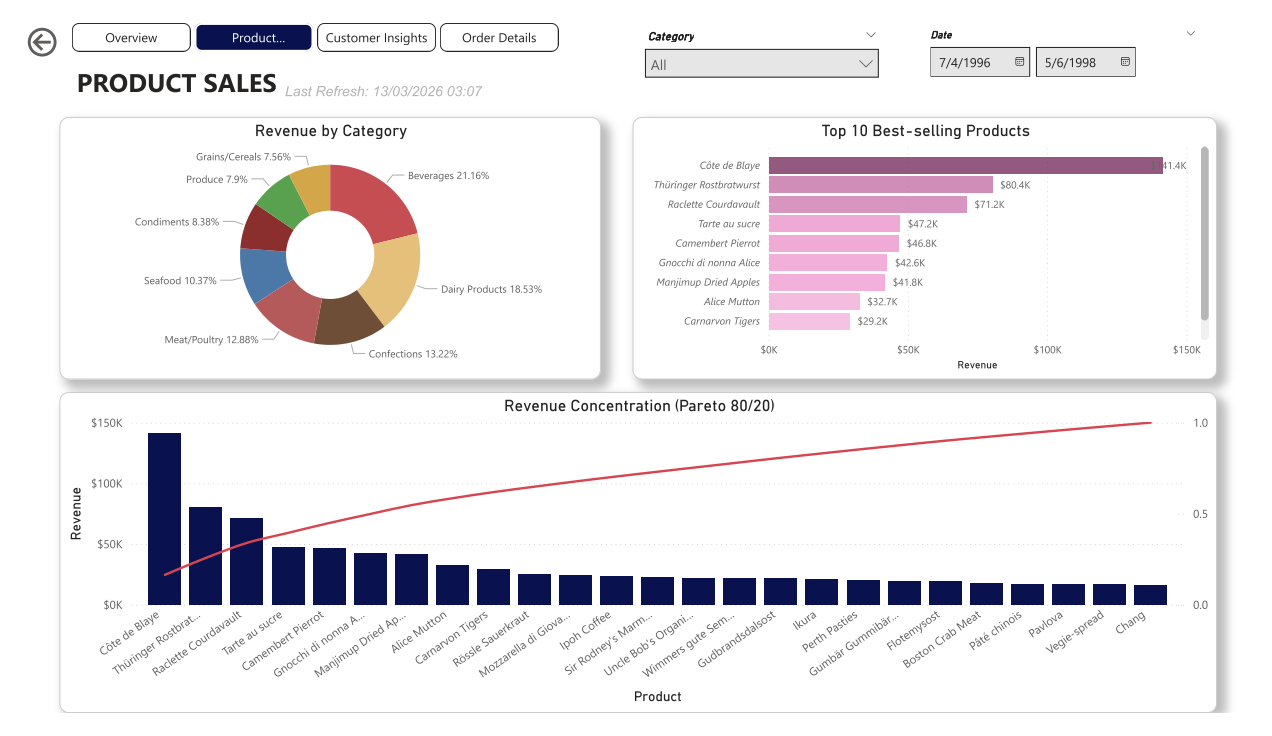

The page's visual inventory and layout, read from the dashboard file:
{"tool":"powerbi","page":{"name":"Product Performance","canvas":[1280,720],"ordinal":1},"visuals":[{"type":"textbox","box":[50.8,37.7,236.1,47.5],"z":0,"group":"g2"},{"type":"clusteredBarChart","title":"Top 10 Best-selling Products","fields":{"Category":["dim_products.product_name"],"Y":["all_measures.total_revenue"]},"box":[636.1,98.4,609.8,273.8],"z":0},{"type":"actionButton","box":[0,0,100,40],"z":1000},{"type":"slicer","fields":{"Values":["dim_categories.category_name"]},"box":[638.9,1.6,264.4,77.8],"z":2000,"group":"g3"},{"type":"donutChart","fields":{"Category":["dim_categories.category_name"],"Y":["all_measures.total_revenue"]},"box":[37.7,98.4,565.6,273.8],"z":2000},{"type":"group","id":"g1","title":"Group 1","box":[638.9,0.6,596.9,78.8],"z":3000},{"type":"slicer","fields":{"Values":["dim_date.Date"]},"box":[934.2,0.6,301.6,77],"z":3000,"group":"g3"},{"type":"card","fields":{"Values":["all_measures.Last Refresh Text"]},"box":[267.2,55.7,218,34.4],"z":3000,"group":"g2"},{"type":"lineClusteredColumnComboChart","title":"Revenue Concentration (Pareto 80/20)","fields":{"Category":["dim_products.product_name"],"Y":["all_measures.total_revenue"],"Y2":["all_measures.cummulative_revenue"]},"box":[37.8,384.8,1208.5,335.6],"z":4000},{"type":"group","id":"g2","title":"Group 3","box":[50.8,37.7,434.4,52.5],"z":5000},{"type":"pageNavigator","box":[50.8,0,508.2,29.5],"z":6000},{"type":"group","id":"g3","title":"Group 2","box":[638.9,0.6,596.9,78.8],"z":6001,"group":"g1"}]}

Visuals, with their boxes in screenshot pixels (x1, y1, x2, y2), scaled from the page's 1280x720 canvas onto the 1272x736 screenshot:
textbox: (left=50, top=39, right=285, bottom=87)
"Top 10 Best-selling Products" clusteredBarChart: (left=632, top=101, right=1238, bottom=380)
actionButton: (left=0, top=0, right=99, bottom=41)
slicer - dim_categories.category_name: (left=635, top=2, right=898, bottom=81)
donutChart - dim_categories.category_name x all_measures.total_revenue: (left=37, top=101, right=600, bottom=380)
"Group 1" group: (left=635, top=1, right=1228, bottom=81)
slicer - dim_date.Date: (left=928, top=1, right=1228, bottom=79)
card - all_measures.Last Refresh Text: (left=266, top=57, right=482, bottom=92)
"Revenue Concentration (Pareto 80/20)" lineClusteredColumnComboChart: (left=38, top=393, right=1239, bottom=735)
"Group 3" group: (left=50, top=39, right=482, bottom=92)
pageNavigator: (left=50, top=0, right=556, bottom=30)
"Group 2" group: (left=635, top=1, right=1228, bottom=81)
